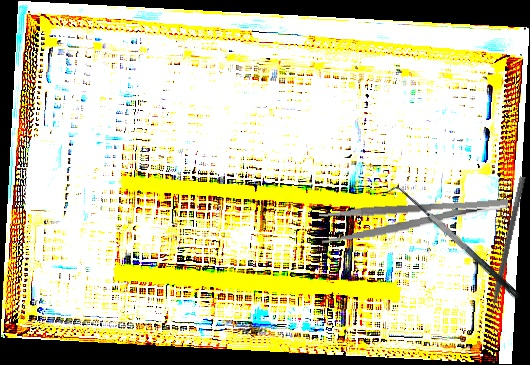Dressing Forceps: (318, 194, 511, 245)
Spatula Surgical: (385, 177, 522, 311), (482, 174, 526, 323)
